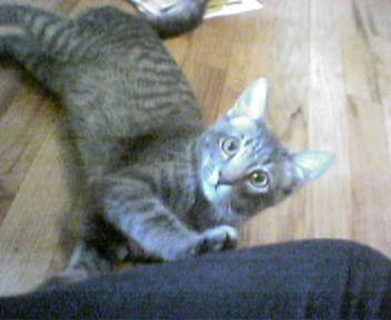Cat: (0, 0, 338, 261)
